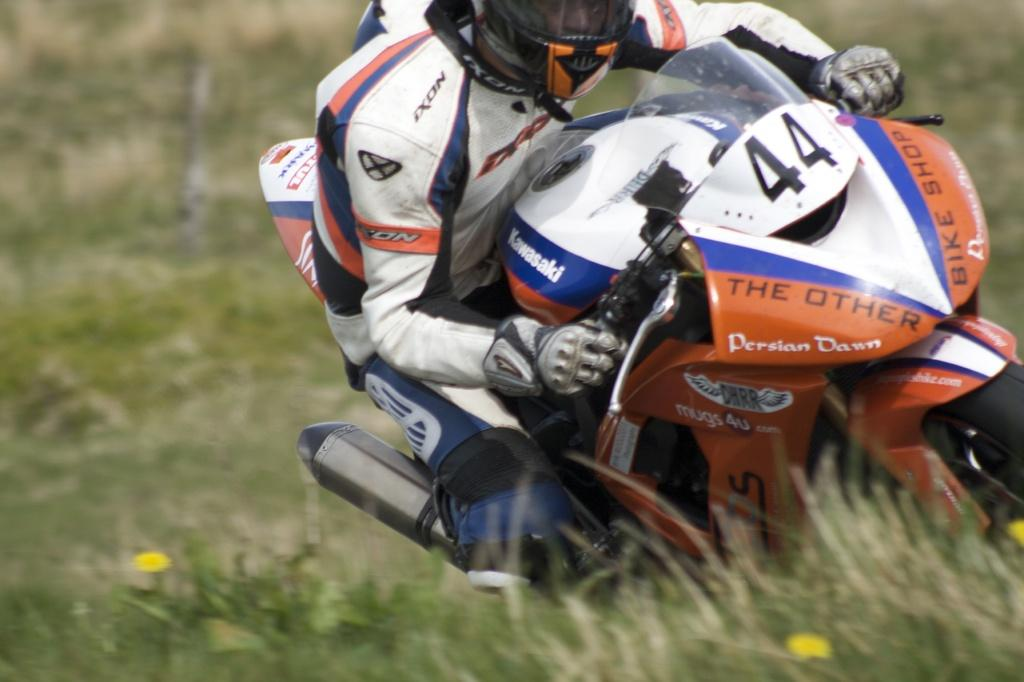helmet: (470, 0, 638, 101)
